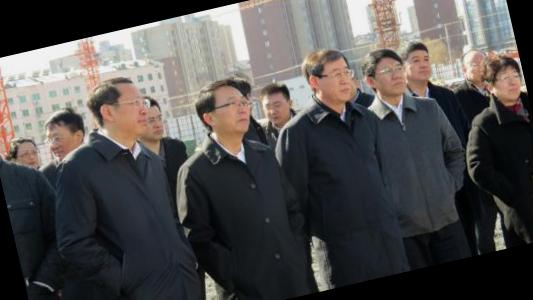no_helmet: (89, 74, 153, 144), (195, 75, 258, 145), (301, 41, 361, 111), (363, 40, 416, 104), (38, 104, 90, 159), (126, 90, 170, 148), (253, 75, 298, 131), (396, 36, 441, 87), (483, 53, 526, 106), (459, 42, 493, 92), (8, 134, 44, 176)
